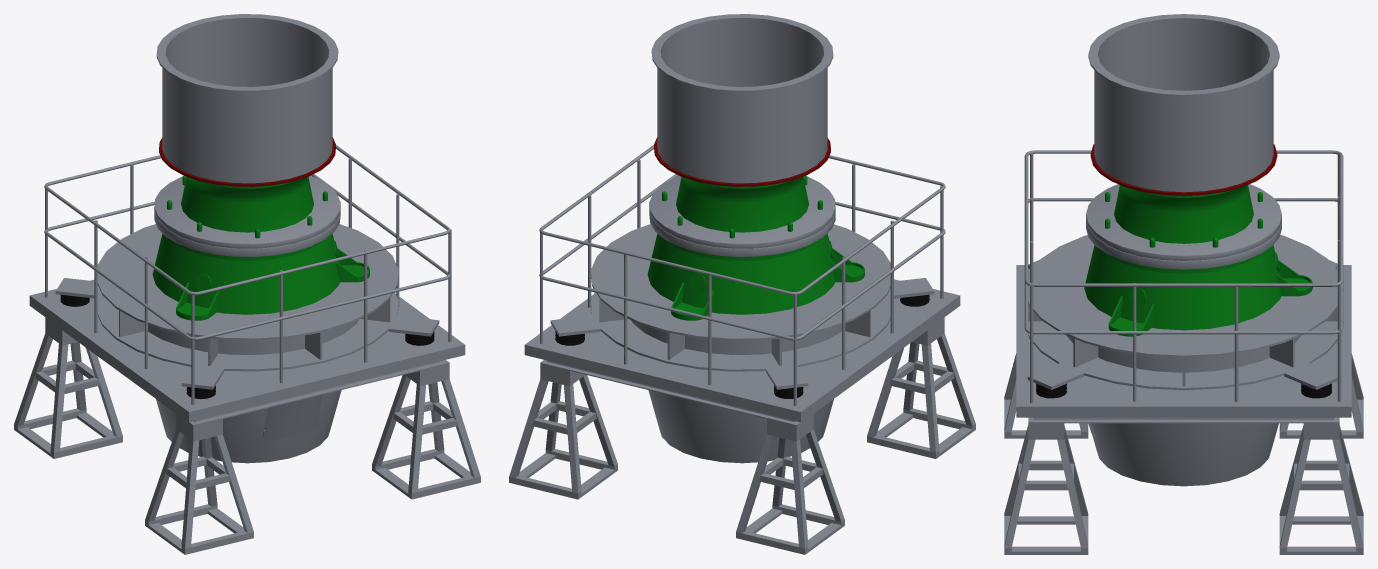
Rendered from YuanZhuJi.fbx.
3 renders of one model, left to right at view 1: azimuth 30°, elevation 25°; view 2: azimuth 150°, elevation 25°; view 3: azimuth 270°, elevation 25°, orthographic. The views are drawn at different scales.
Parts seen in each view (by area): view 1: Circle694, Line1184, Circle691, Circle695_004; view 2: Circle694, Line1184, Circle691, Circle695_004; view 3: Circle694, Line1184, Circle691, Circle695_004.
Boxes of the visible parts, x1,y1,x2,y2 form: Circle694: (14,14,480,554); Line1184: (152,176,369,320); Circle691: (159,137,335,186); Circle695_004: (60,294,434,399); Circle694: (509,14,975,554); Line1184: (647,176,864,320); Circle691: (654,137,830,186); Circle695_004: (555,294,929,398); Circle694: (1004,14,1363,554); Line1184: (1084,185,1312,336); Circle691: (1090,144,1277,195); Circle695_004: (1036,383,1331,398).
Size of the model in its own units: 3 by 3.91 by 3.
